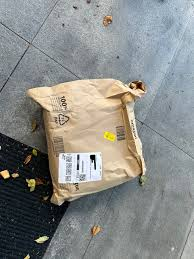damaged package: (30, 79, 145, 204)
